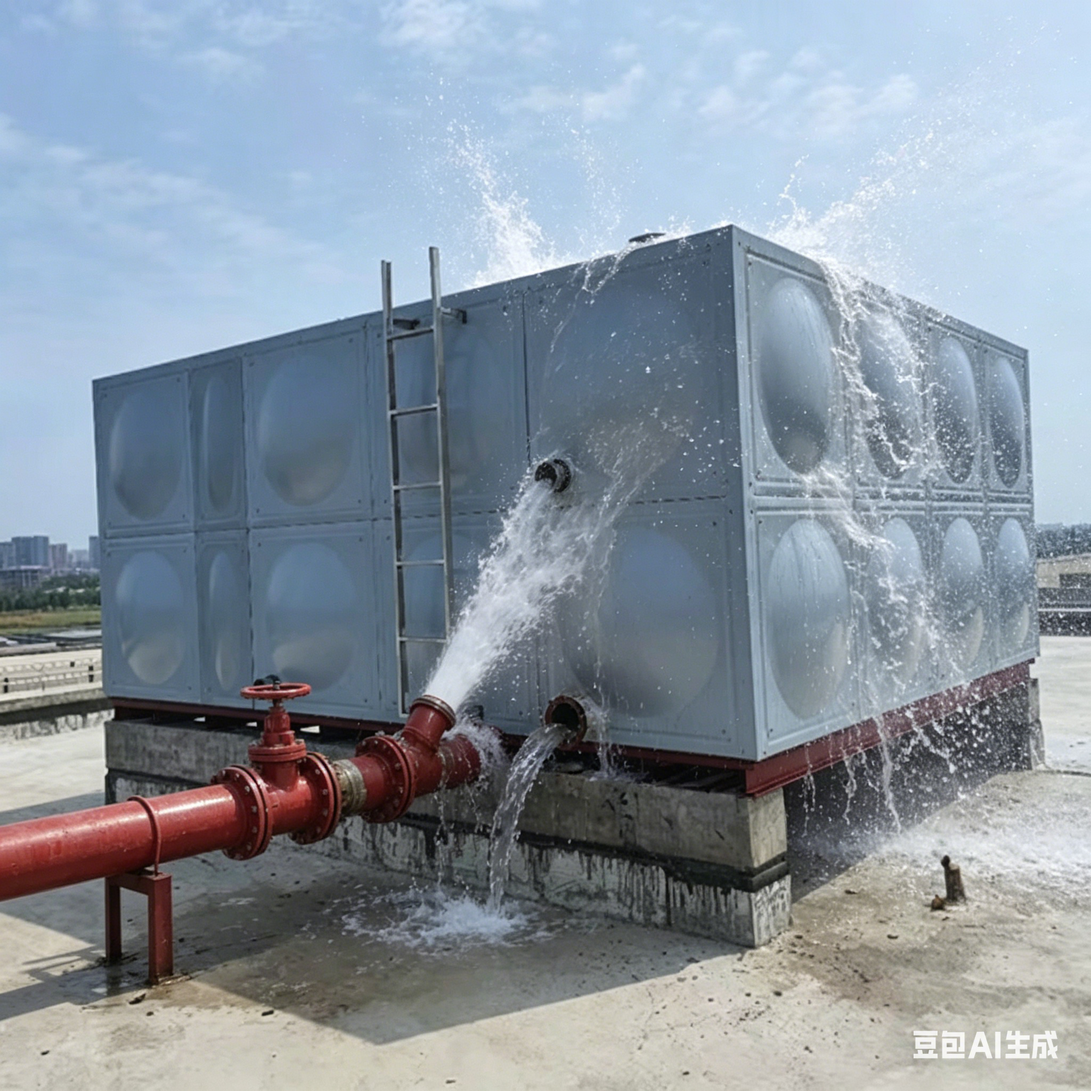Leakage: (810, 247, 1085, 882), (449, 150, 850, 289), (419, 485, 612, 696), (445, 728, 592, 989)
